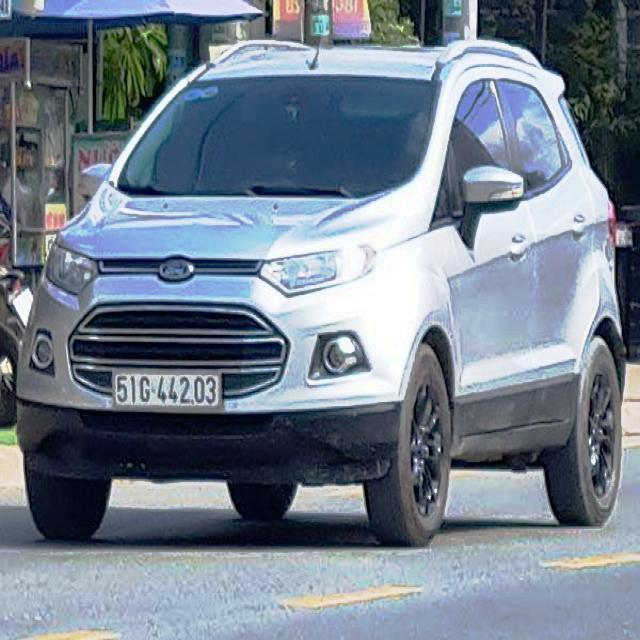license_plate: (114, 373, 222, 414)
